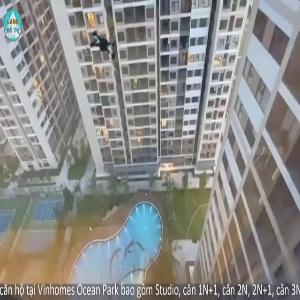drone: (71, 13, 138, 80)
